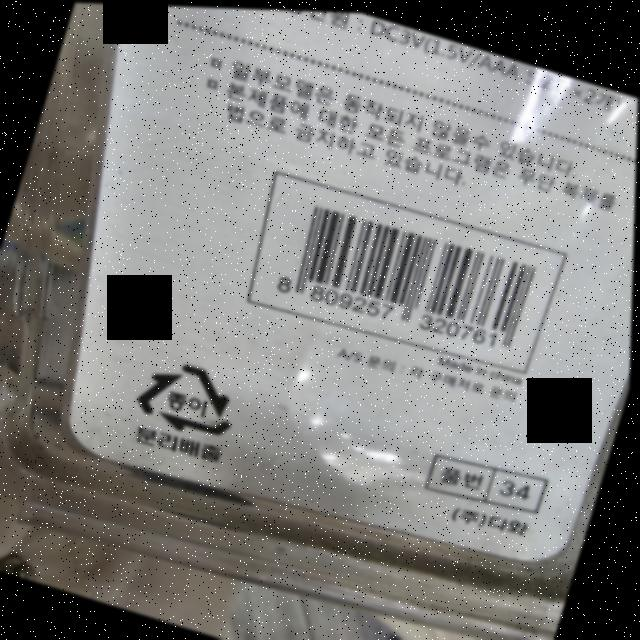Paper: (131, 347, 248, 444)
